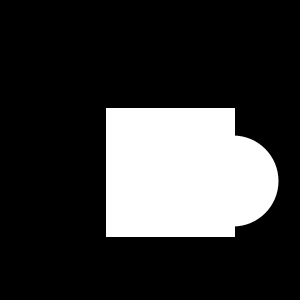circle: (106, 108, 235, 237)
rectangle: (188, 136, 278, 227)
